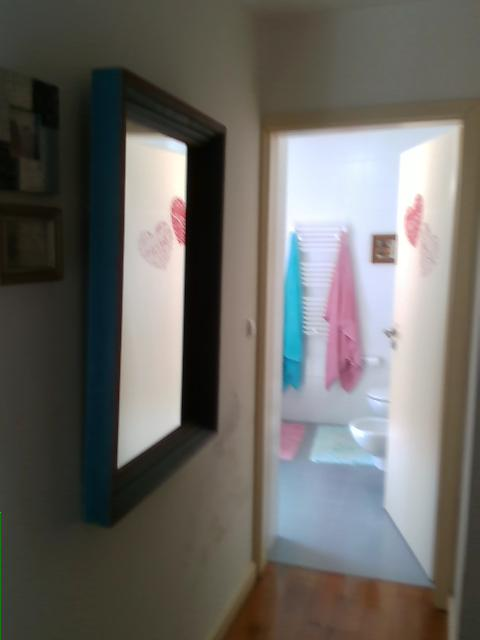open_door: (255, 96, 479, 598)
